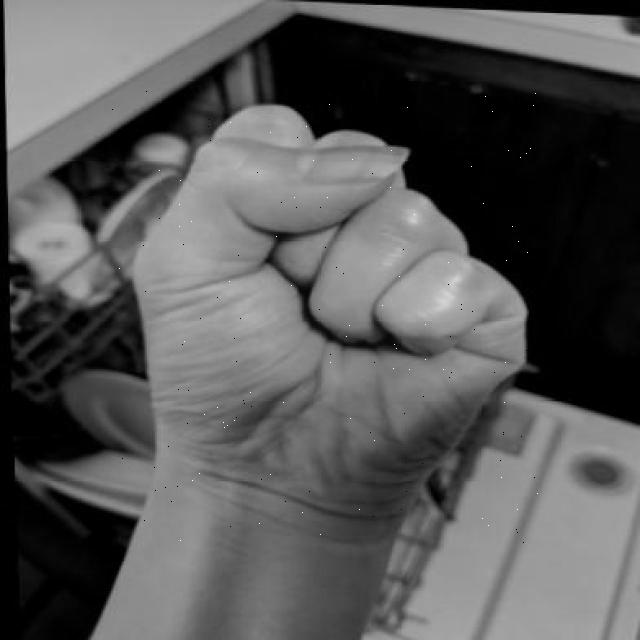S: (112, 91, 546, 543)
